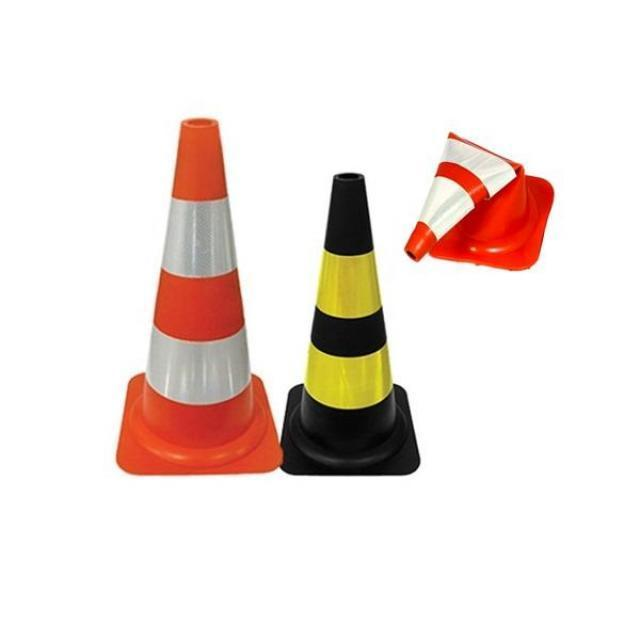traffic cone: (279, 171, 421, 475)
